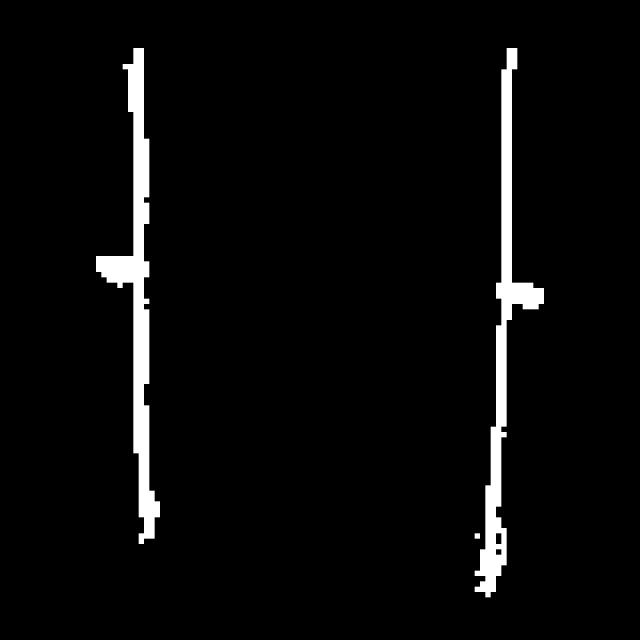capacitor: (114, 31, 515, 586)
